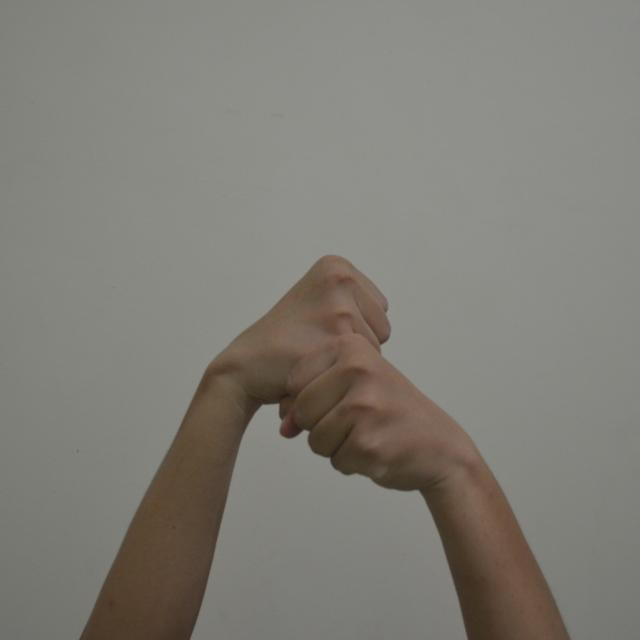G: (181, 242, 502, 513)
